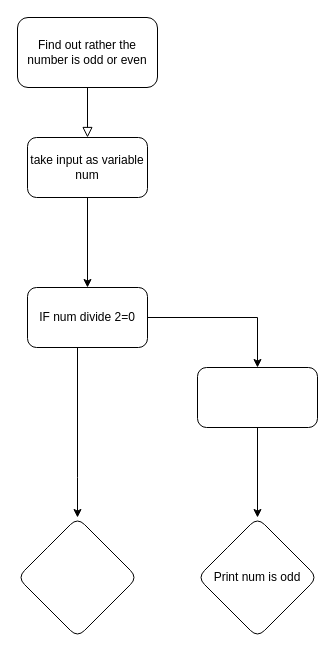
The diagram is 335 pixels wide and 655 high, and some of its shapes have lost their labels. The box of each missing label's shape, as (x1, y1, x2, y2) in pixels:
Else: (196, 366, 318, 428)
print num is even: (16, 516, 138, 638)
